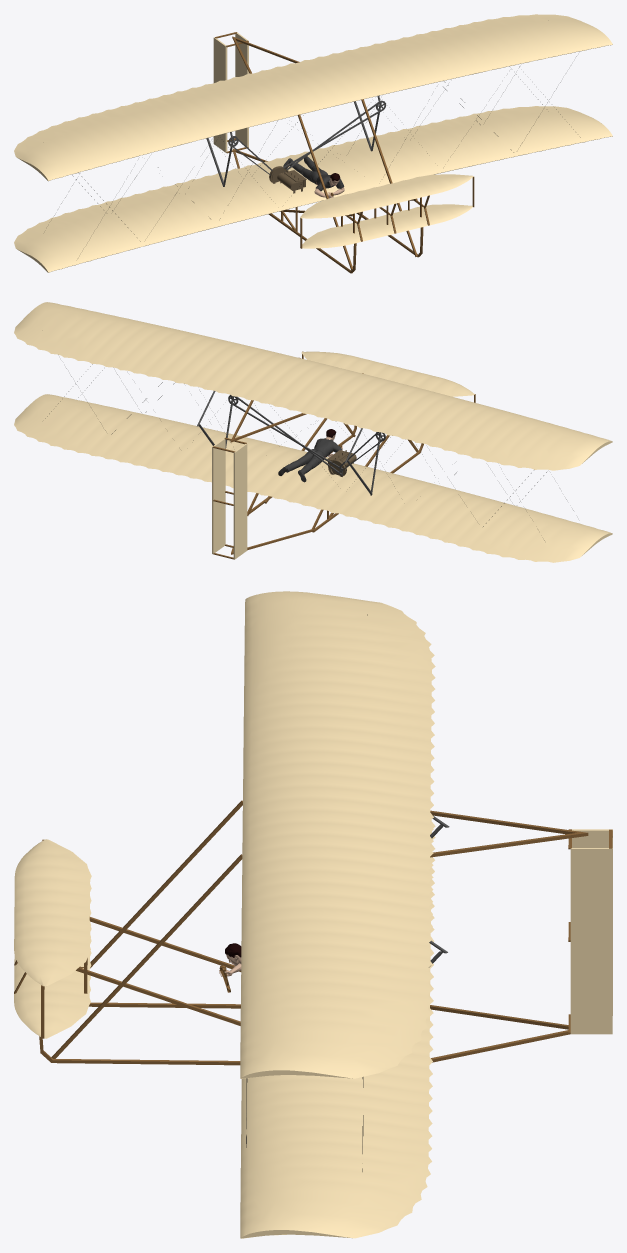
3 renders of one model, top to bottom at view 1: azimuth 30°, elevation 25°; view 2: azimuth 150°, elevation 25°; view 3: azimuth 270°, elevation 25°, orthographic. The views are drawn at different scales.
Parts seen in each view (by area): view 1: VIFS04-FACES, VIFS01-FACES, VIFS16-FACES, VIFS13-FACES, Object_219, Object_267, VIFS41-FACES, VIFS56-FACES, VIFS57-FACES, VIFS55-FACES; view 2: VIFS04-FACES, VIFS01-FACES, VIFS16-FACES, Object_219, Object_267, VIFS41-FACES, VIFS20-FACES; view 3: VIFS04-FACES, VIFS01-FACES, VIFS16-FACES, Object_267, VIFS13-FACES, VIFS20-FACES, VIFS19-FACES, VIFS56-FACES, VIFS54-FACES, VIFS57-FACES, VIFS58-FACES.
Boxes of the visible parts, x1=… form: VIFS04-FACES: x1=14, y1=14, x2=612, y2=180; VIFS01-FACES: x1=14, y1=106, x2=612, y2=272; VIFS16-FACES: x1=300, y1=174, x2=473, y2=218; VIFS13-FACES: x1=302, y1=204, x2=472, y2=248; Object_219: x1=213, y1=37, x2=227, y2=152; Object_267: x1=235, y1=32, x2=248, y2=146; VIFS41-FACES: x1=283, y1=101, x2=381, y2=171; VIFS56-FACES: x1=361, y1=99, x2=417, y2=256; VIFS57-FACES: x1=298, y1=114, x2=352, y2=270; VIFS55-FACES: x1=268, y1=213, x2=356, y2=273; VIFS04-FACES: x1=14, y1=302, x2=611, y2=470; VIFS01-FACES: x1=14, y1=394, x2=611, y2=562; VIFS16-FACES: x1=301, y1=351, x2=474, y2=396; Object_219: x1=233, y1=443, x2=247, y2=559; Object_267: x1=212, y1=438, x2=225, y2=553; VIFS41-FACES: x1=232, y1=396, x2=342, y2=475; VIFS20-FACES: x1=230, y1=400, x2=306, y2=442; VIFS04-FACES: x1=240, y1=591, x2=435, y2=1078; VIFS01-FACES: x1=240, y1=820, x2=435, y2=1238; VIFS16-FACES: x1=14, y1=839, x2=91, y2=986; Object_267: x1=570, y1=848, x2=612, y2=1034; VIFS13-FACES: x1=14, y1=927, x2=91, y2=1038; VIFS20-FACES: x1=430, y1=810, x2=588, y2=857; VIFS19-FACES: x1=430, y1=1005, x2=569, y2=1062; VIFS56-FACES: x1=51, y1=854, x2=242, y2=1058; VIFS54-FACES: x1=39, y1=1036, x2=240, y2=1065; VIFS57-FACES: x1=90, y1=800, x2=242, y2=968; VIFS58-FACES: x1=76, y1=968, x2=240, y2=1025.
Size of the model in its own units: 1197 by 304 by 632.
